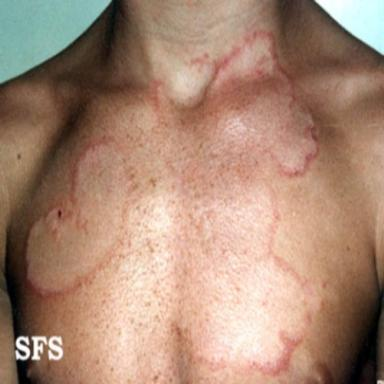Tinea-Corporis: (22, 28, 320, 378)
